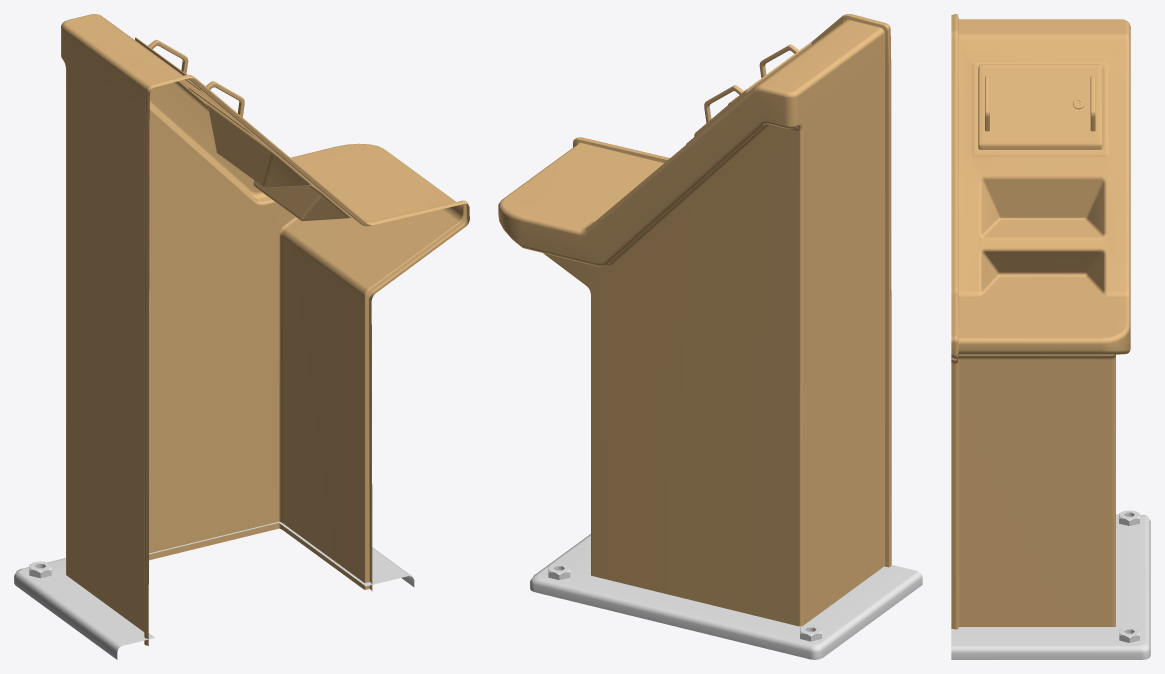
File: SM_ConsoleBaseCorner.fbx
3 views of the same model, side by side, from view 1: azimuth 30°, elevation 25°; view 2: azimuth 150°, elevation 25°; view 3: azimuth 270°, elevation 25° (orthographic). The views are drawn at different scales.
Visible parts, largest first — view 1: SM_ConsoleBaseCorner; view 2: SM_ConsoleBaseCorner; view 3: SM_ConsoleBaseCorner.
Part boxes in pixels (<box>): SM_ConsoleBaseCorner: <box>14,14,469,659</box>; SM_ConsoleBaseCorner: <box>498,14,922,659</box>; SM_ConsoleBaseCorner: <box>951,14,1150,659</box>.
Bounding box in the file's own units: 106 × 162 × 55.49.
